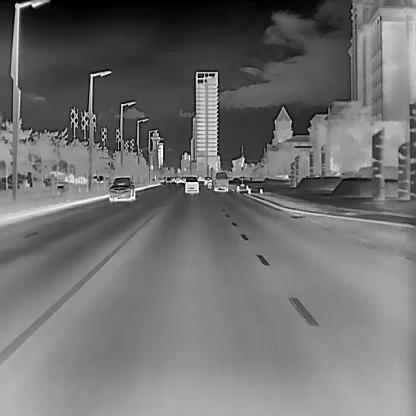car: (108, 177, 135, 202), (213, 171, 228, 191), (184, 176, 199, 194), (204, 176, 213, 186)
